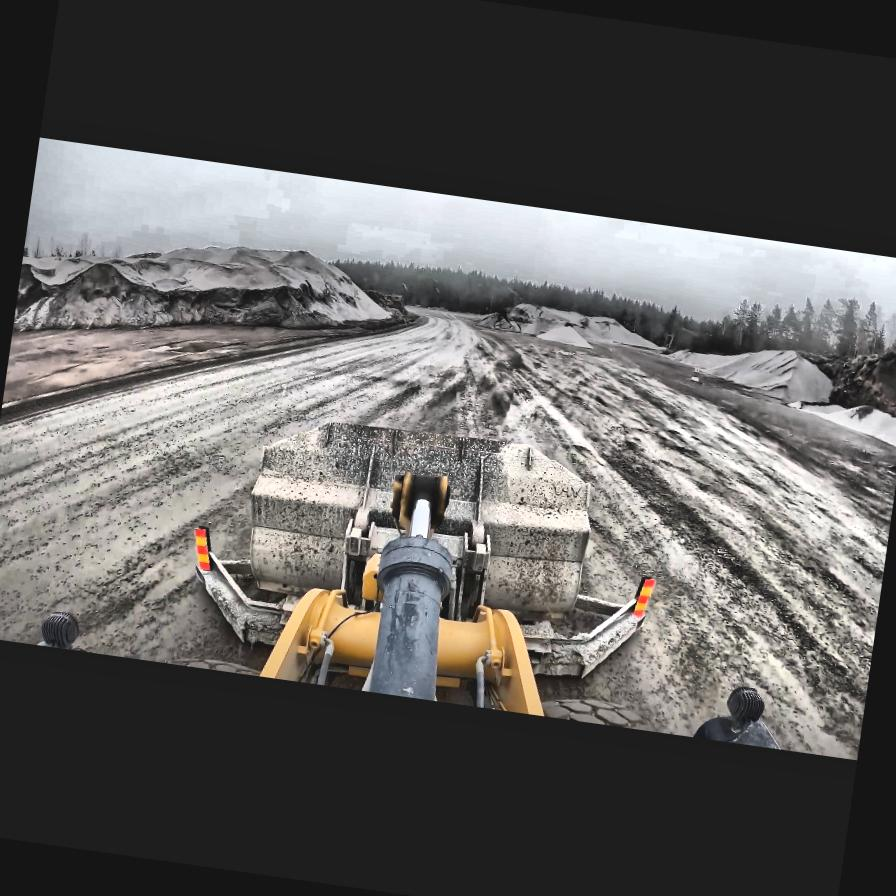anchor: (386, 467, 450, 538)
pile of gravel: (12, 209, 400, 383), (668, 334, 838, 408), (819, 338, 896, 422), (508, 298, 587, 328), (532, 320, 596, 350), (473, 304, 524, 332), (664, 346, 692, 360), (589, 314, 620, 326)
